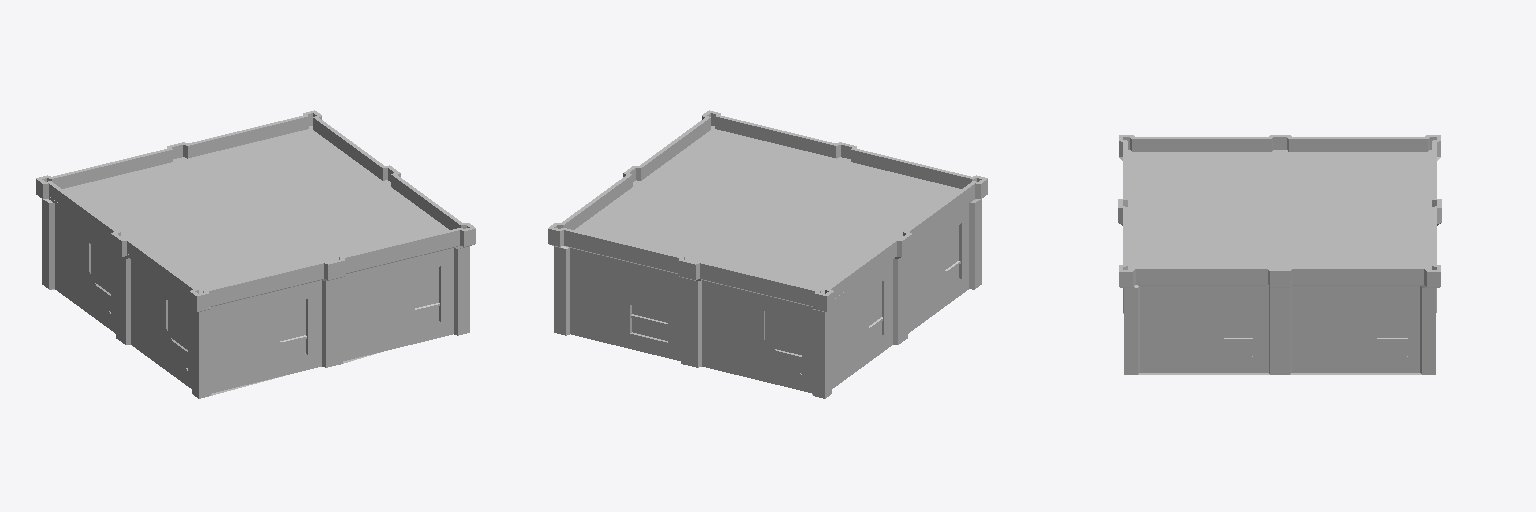
File: buildingB1.obj
3 renders of one model, left to right at view 1: azimuth 30°, elevation 25°; view 2: azimuth 150°, elevation 25°; view 3: azimuth 270°, elevation 25°, orthographic.
Visible parts, largest first — view 1: Cube.001_Cube.012; view 2: Cube.001_Cube.012; view 3: Cube.001_Cube.012.
Part boxes in pixels (bbox=[...]): Cube.001_Cube.012: bbox=[36, 110, 475, 398]; Cube.001_Cube.012: bbox=[548, 110, 987, 398]; Cube.001_Cube.012: bbox=[1118, 135, 1441, 374].
Bounding box in the file's own units: 9.28 × 3.34 × 9.3.